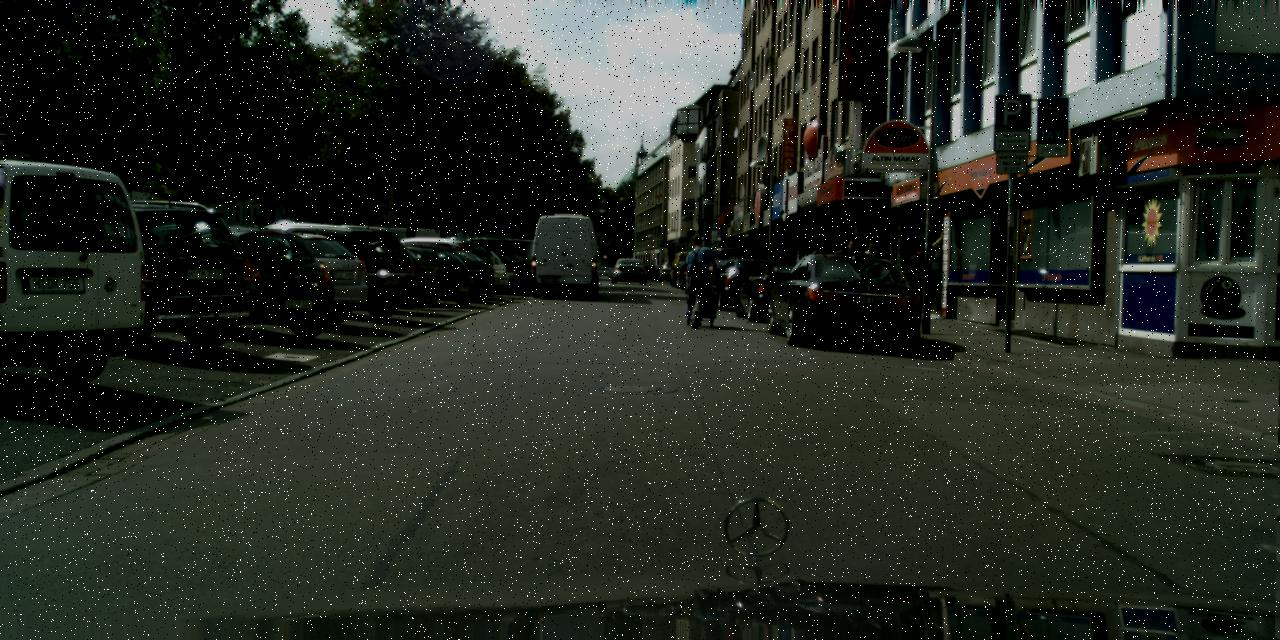ped: (678, 234, 716, 327), (901, 242, 934, 324), (858, 239, 886, 308), (838, 238, 866, 306), (831, 240, 854, 295), (810, 242, 831, 295), (819, 246, 839, 293), (846, 245, 866, 292)
